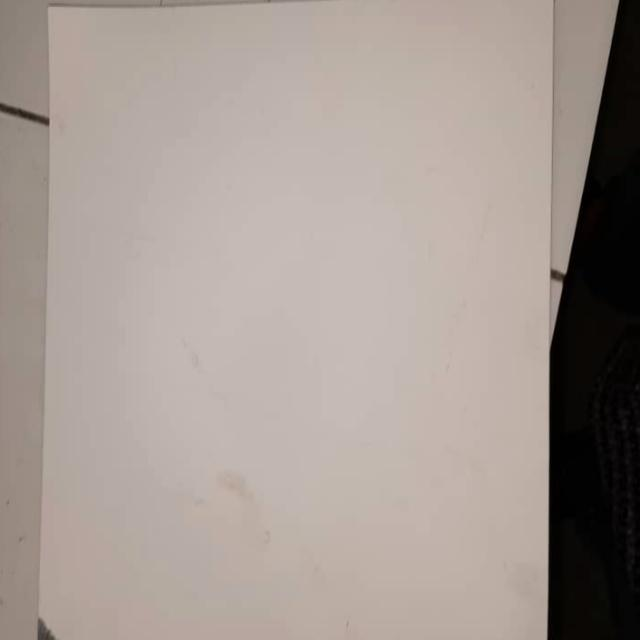TLC Plate: (36, 2, 552, 636)
